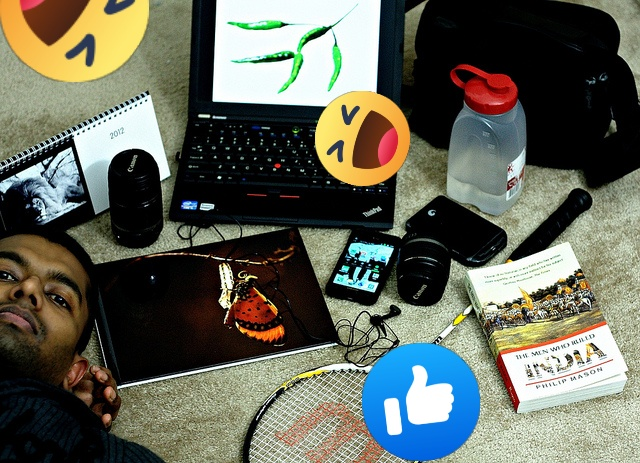haha: (0, 0, 149, 82), (315, 91, 410, 186)
like: (362, 343, 480, 461)
